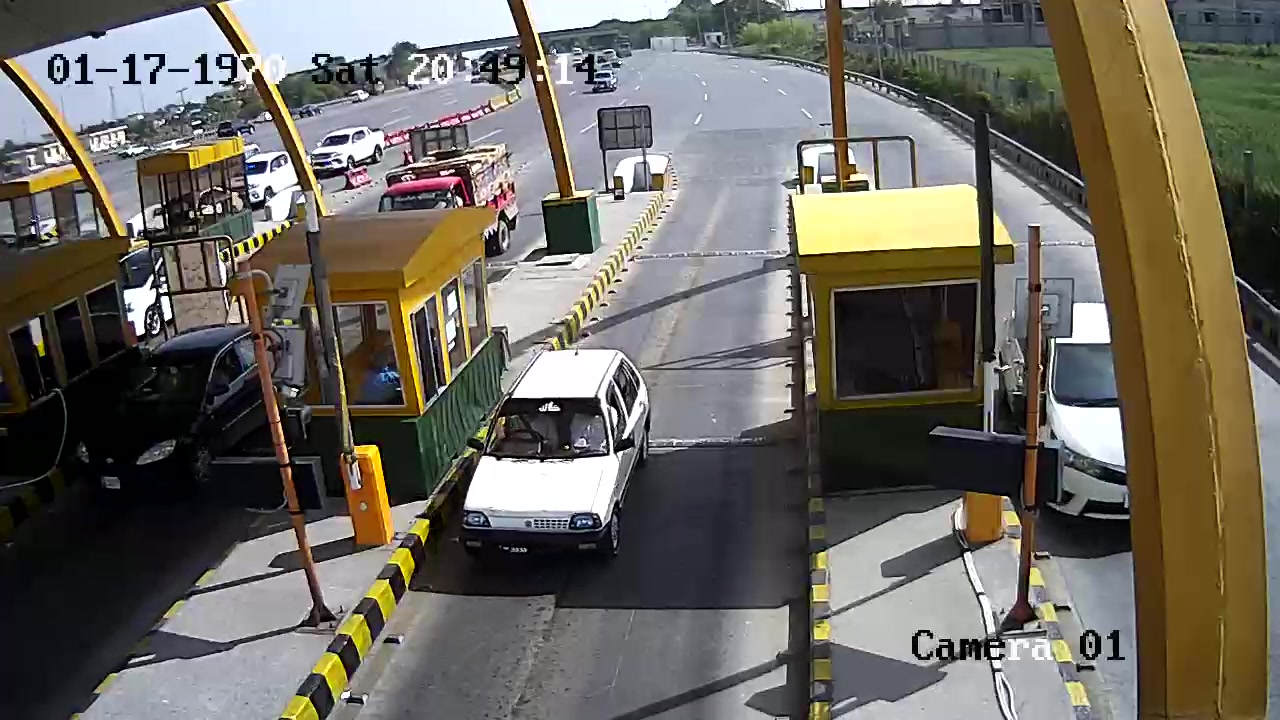F1: (465, 339, 665, 563)
